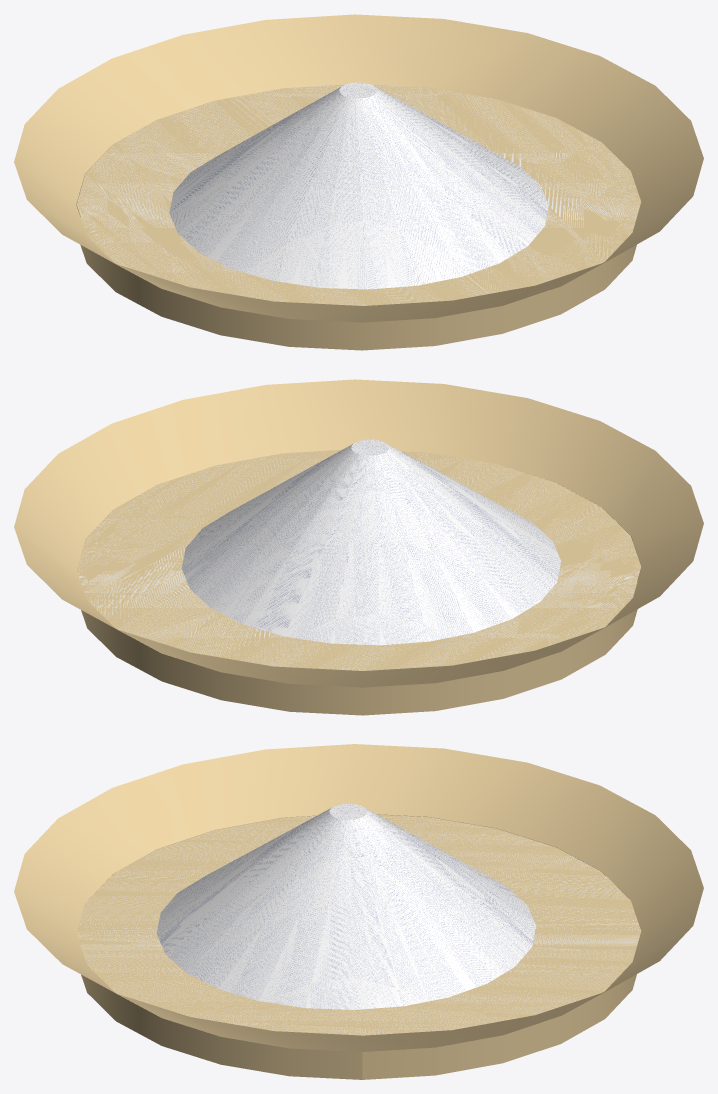
Rendered from plate.fbx.
The picture shows the model from 3 angles, top to bottom: view 1: azimuth 30°, elevation 25°; view 2: azimuth 150°, elevation 25°; view 3: azimuth 270°, elevation 25°; orthographic projection.
Visible parts, largest first — view 1: Group1, Group2; view 2: Group1, Group2; view 3: Group1, Group2.
Boxes of the visible parts, bbox=[...] form: Group1: bbox=[14, 14, 703, 350]; Group2: bbox=[169, 82, 548, 289]; Group1: bbox=[14, 379, 703, 715]; Group2: bbox=[181, 439, 561, 645]; Group1: bbox=[14, 744, 703, 1079]; Group2: bbox=[156, 803, 536, 1009].
Bounding box in the file's own units: 9.24 × 2.16 × 9.24.
